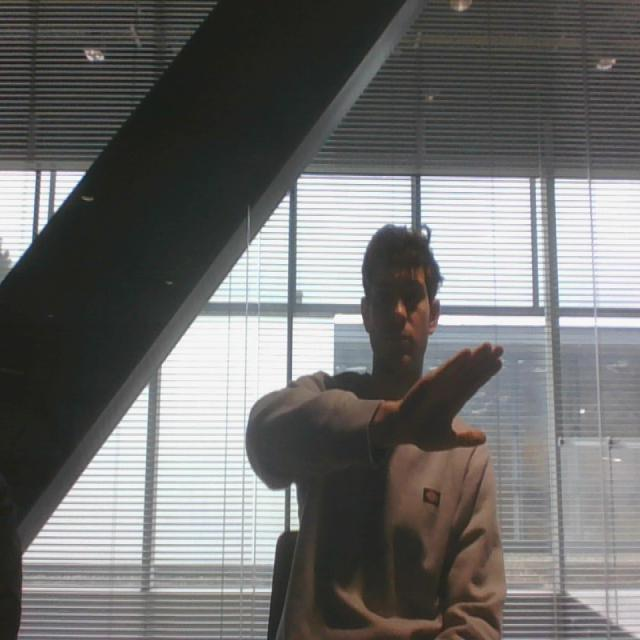backward: (392, 336, 514, 460)
